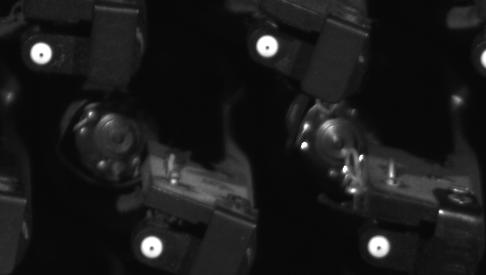fiber: (132, 230, 173, 266), (361, 230, 397, 263), (28, 37, 61, 69), (248, 32, 285, 60)
